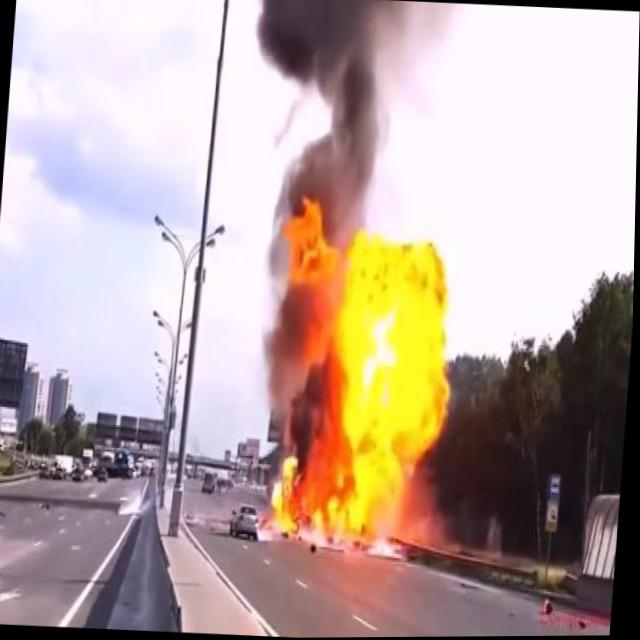fire: (260, 193, 468, 561)
